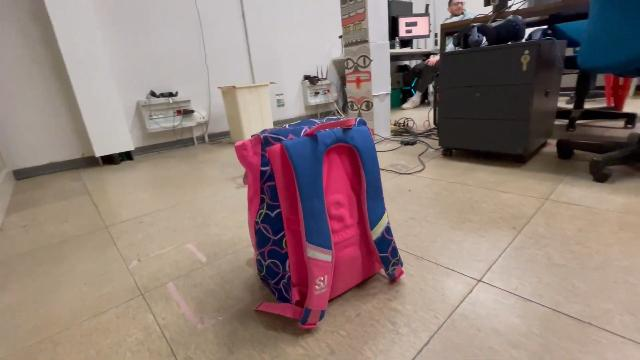Backpack: (229, 110, 411, 338)
